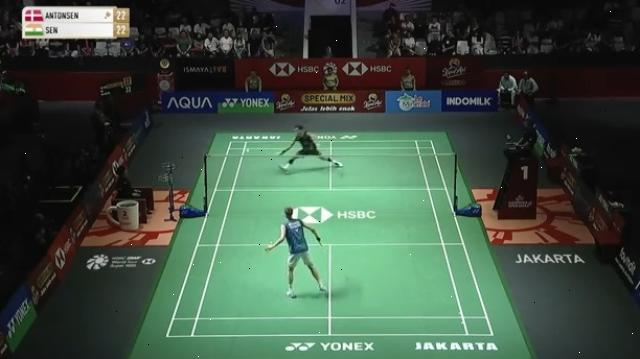Shuttlecock: (243, 146, 253, 156)
